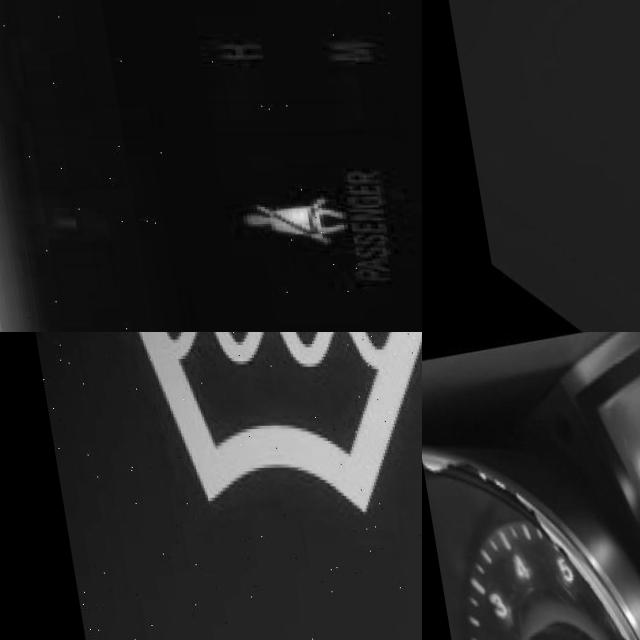Seat Belt: (231, 204, 336, 244)
Washer Fluid: (71, 332, 422, 522)
